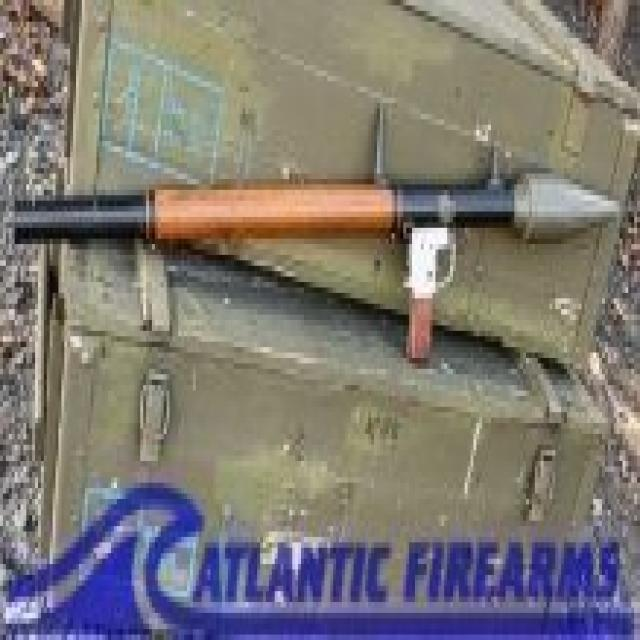bazooka: (7, 153, 629, 300)
